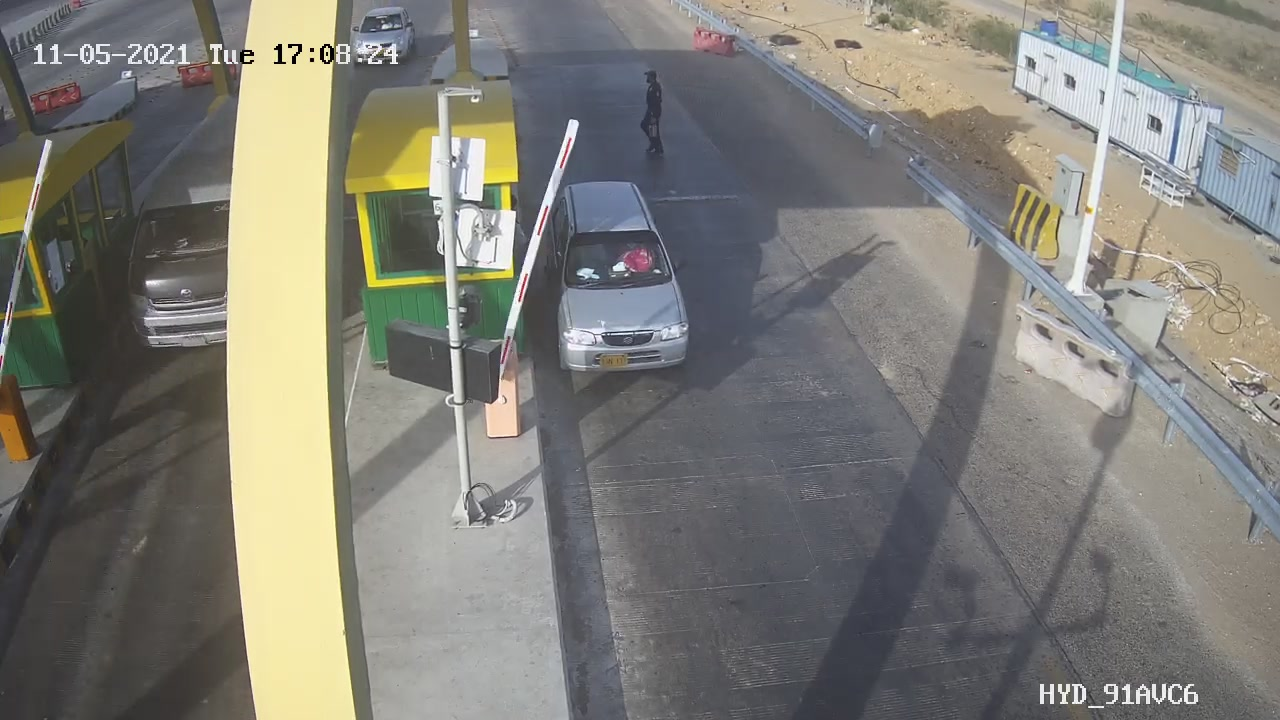F1: (524, 168, 724, 391)
